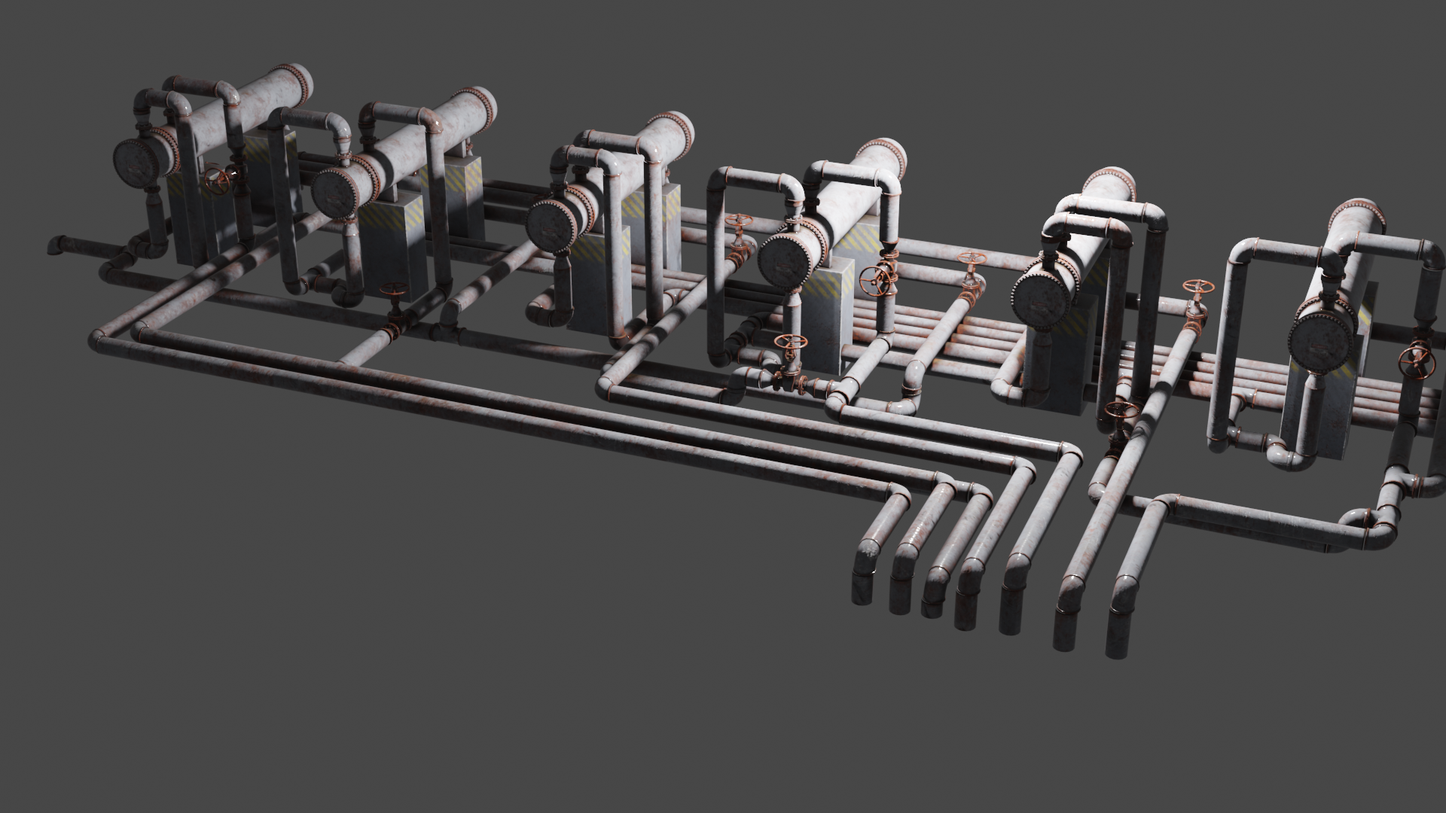HE_1: (114, 61, 316, 185)
HE_2: (307, 82, 501, 217)
HE_3: (525, 110, 695, 252)
HE_4: (754, 135, 903, 284)
HE_5: (1010, 164, 1142, 326)
HE_6: (1291, 195, 1387, 369)
